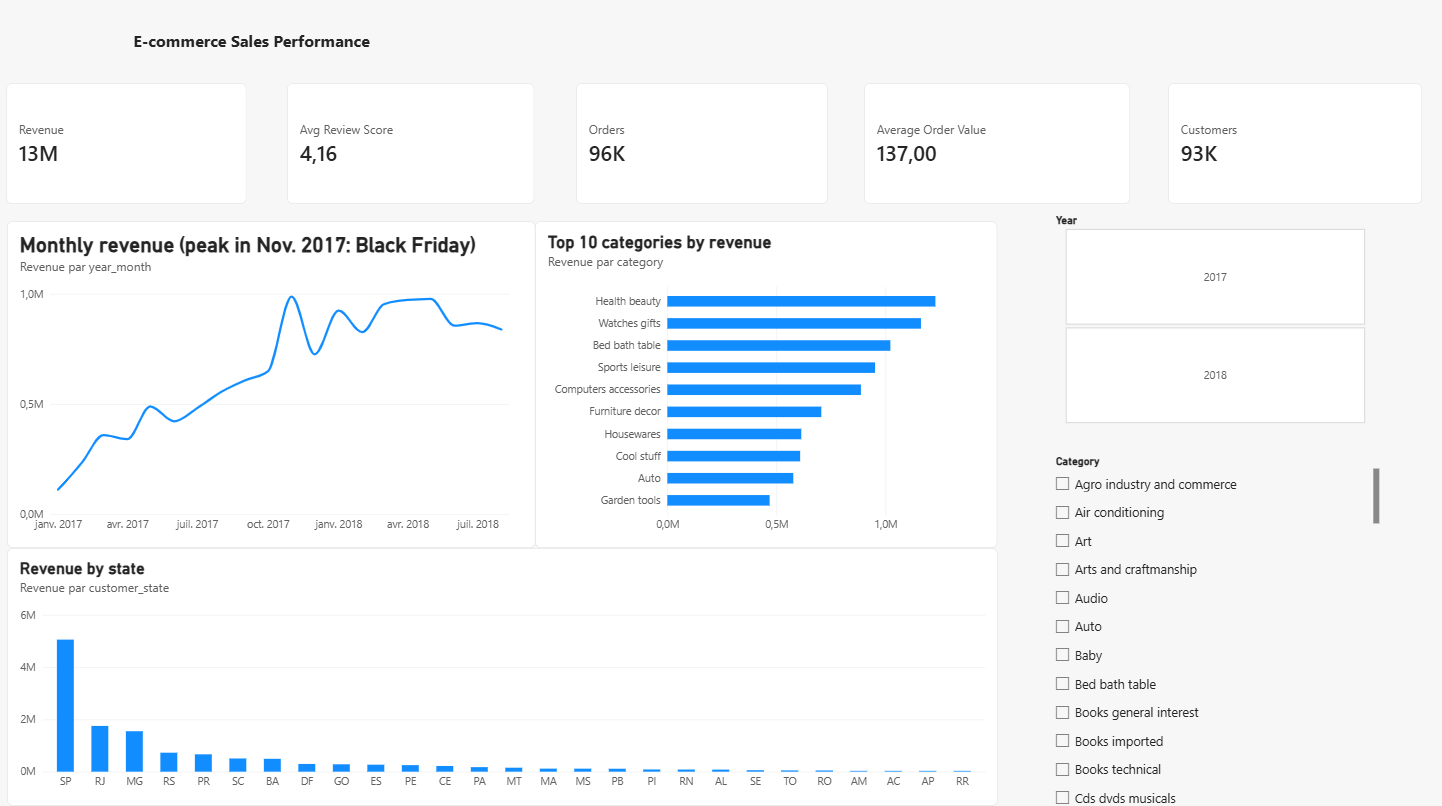

Layout of this report page (visuals, bound fields, positions):
{"tool":"powerbi","page":{"name":"Page 1","canvas":[1920,1080],"ordinal":0},"visuals":[{"type":"cardVisual","fields":{"Data":["fact_order_items.Revenue"]},"box":[9.5,118.1,320.5,161.6],"z":0},{"type":"cardVisual","fields":{"Data":["fact_order_items.Orders"]},"box":[767.2,118.1,335.4,161.6],"z":1},{"type":"cardVisual","fields":{"Data":["fact_order_items.Average Order Value"]},"box":[1150.1,118.1,354.4,161.6],"z":2},{"type":"cardVisual","fields":{"Data":["fact_order_items.Customers"]},"box":[1554.7,118.1,338.1,161.6],"z":3},{"type":"cardVisual","fields":{"Data":["fact_order_items.Avg Review Score"]},"box":[382.9,118.1,330,161.6],"z":4},{"type":"lineChart","title":"Monthly revenue (peak in Nov. 2017: Black Friday)","fields":{"Category":["dim_date.year_month"],"Y":["fact_order_items.Revenue"]},"box":[10,302.5,702.5,435],"z":5},{"type":"clusteredBarChart","title":"Top 10 categories by revenue","fields":{"Category":["dim_product.category"],"Y":["fact_order_items.Revenue"]},"box":[712.5,302.5,615,435],"z":6},{"type":"clusteredColumnChart","title":"Revenue by state","fields":{"Category":["dim_customer.customer_state"],"Y":["fact_order_items.Revenue"]},"box":[10,737.5,1317.5,342.5],"z":7},{"type":"slicer","fields":{"Values":["dim_date.year"]},"box":[1397.5,292.5,437.5,280],"z":8},{"type":"slicer","fields":{"Values":["dim_product.category"]},"box":[1397.5,612.5,437.5,467.5],"z":9},{"type":"textbox","box":[100,100,300,300],"z":10},{"type":"textbox","box":[100,100,300,300],"z":11},{"type":"textbox","box":[100,100,300,300],"z":13},{"type":"textbox","box":[100.5,100.5,1196.3,78.8],"z":14},{"type":"textbox","box":[100.5,47.5,427.7,53],"z":15}]}

Visuals, with their boxes in screenshot pixels (x1, y1, x2, y2), scaled from the page's 1920x1080 canvas onto the 1442x806 screenshot:
cardVisual - fact_order_items.Revenue: rect(7, 88, 248, 209)
cardVisual - fact_order_items.Orders: rect(576, 88, 828, 209)
cardVisual - fact_order_items.Average Order Value: rect(864, 88, 1130, 209)
cardVisual - fact_order_items.Customers: rect(1168, 88, 1422, 209)
cardVisual - fact_order_items.Avg Review Score: rect(288, 88, 535, 209)
"Monthly revenue (peak in Nov. 2017: Black Friday)" lineChart: rect(8, 226, 535, 550)
"Top 10 categories by revenue" clusteredBarChart: rect(535, 226, 997, 550)
"Revenue by state" clusteredColumnChart: rect(8, 550, 997, 805)
slicer - dim_date.year: rect(1050, 218, 1378, 427)
slicer - dim_product.category: rect(1050, 457, 1378, 805)
textbox: rect(75, 75, 300, 299)
textbox: rect(75, 75, 300, 299)
textbox: rect(75, 75, 300, 299)
textbox: rect(75, 75, 974, 134)
textbox: rect(75, 35, 397, 75)
